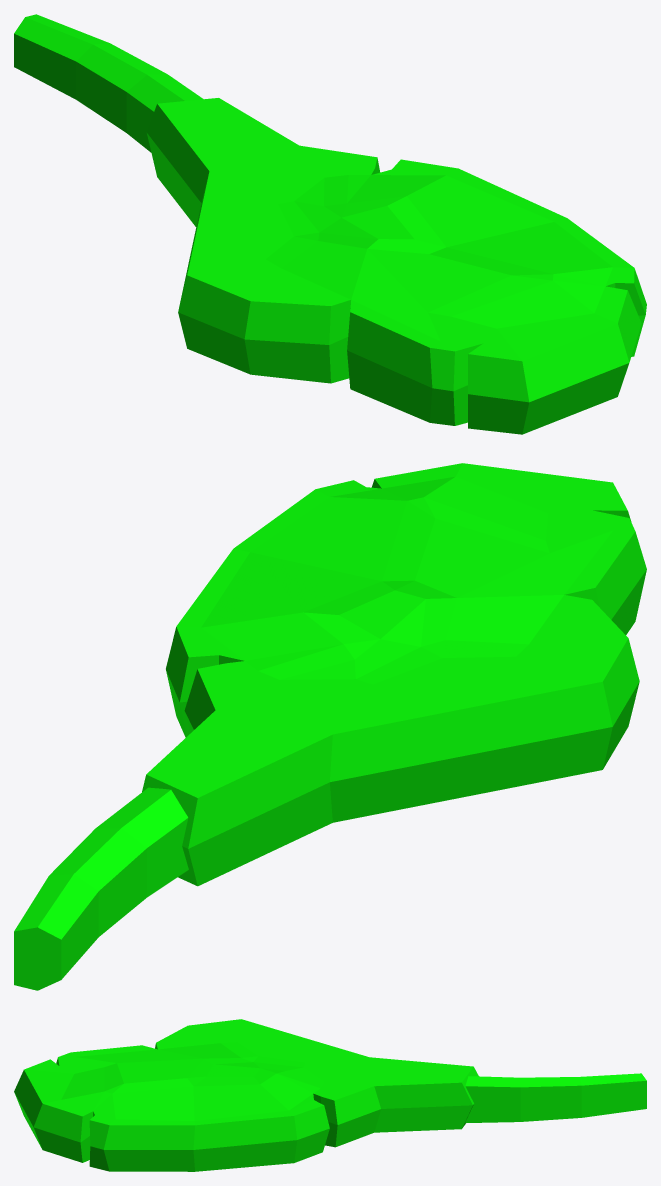
File: SM_Rib_Prime_Beaf.fbx
The picture shows the model from 3 angles, top to bottom: view 1: azimuth 30°, elevation 25°; view 2: azimuth 150°, elevation 25°; view 3: azimuth 270°, elevation 25°; orthographic projection. The views are drawn at different scales.
Parts seen in each view (by area): view 1: rib-prime-beaf; view 2: rib-prime-beaf; view 3: rib-prime-beaf.
Part boxes in pixels (x1=…): rib-prime-beaf: x1=14, y1=14, x2=646, y2=434; rib-prime-beaf: x1=14, y1=463, x2=646, y2=990; rib-prime-beaf: x1=14, y1=1019, x2=646, y2=1171.
Bounding box in the file's own units: 0.2938 × 0.0729 × 0.7061.
